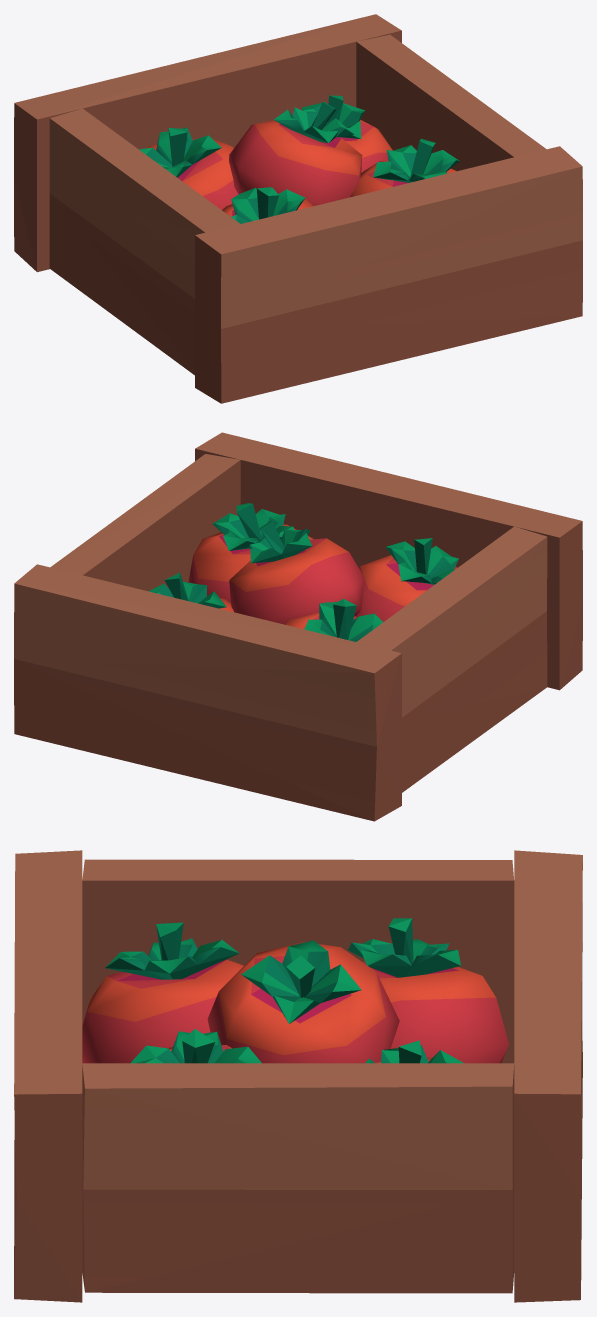
The model's file is crate-of-tomatoes.glb.
3 renders of one model, top to bottom at view 1: azimuth 30°, elevation 25°; view 2: azimuth 150°, elevation 25°; view 3: azimuth 270°, elevation 25°, orthographic. The views are drawn at different scales.
Visible parts, largest first — view 1: crate-of-tomatoes; view 2: crate-of-tomatoes; view 3: crate-of-tomatoes.
Boxes of the visible parts, x1,y1,x2,y2 form: crate-of-tomatoes: (14, 14, 582, 403); crate-of-tomatoes: (14, 432, 582, 821); crate-of-tomatoes: (14, 850, 582, 1302).
Size of the model in its own units: 0.6 by 0.2783 by 0.5928.
